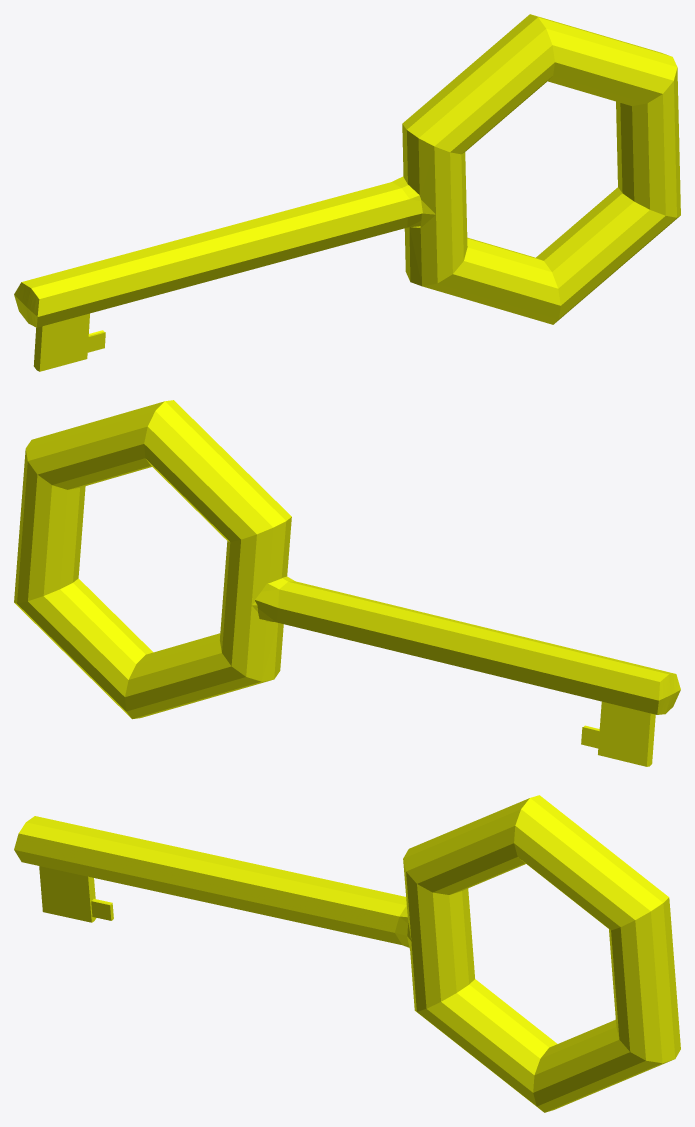
File: key.obj
3 renders of one model, top to bottom at view 1: azimuth 30°, elevation 25°; view 2: azimuth 150°, elevation 25°; view 3: azimuth 330°, elevation 25°, orthographic.
Parts seen in each view (by area): view 1: Torus; view 2: Torus; view 3: Torus.
Part boxes in pixels (box(x1,y1,x2,y2)): Torus: box(14, 14, 680, 371); Torus: box(14, 400, 680, 766); Torus: box(14, 795, 680, 1112).
Size of the model in its own units: 5.4 by 2.49 by 0.6131.
